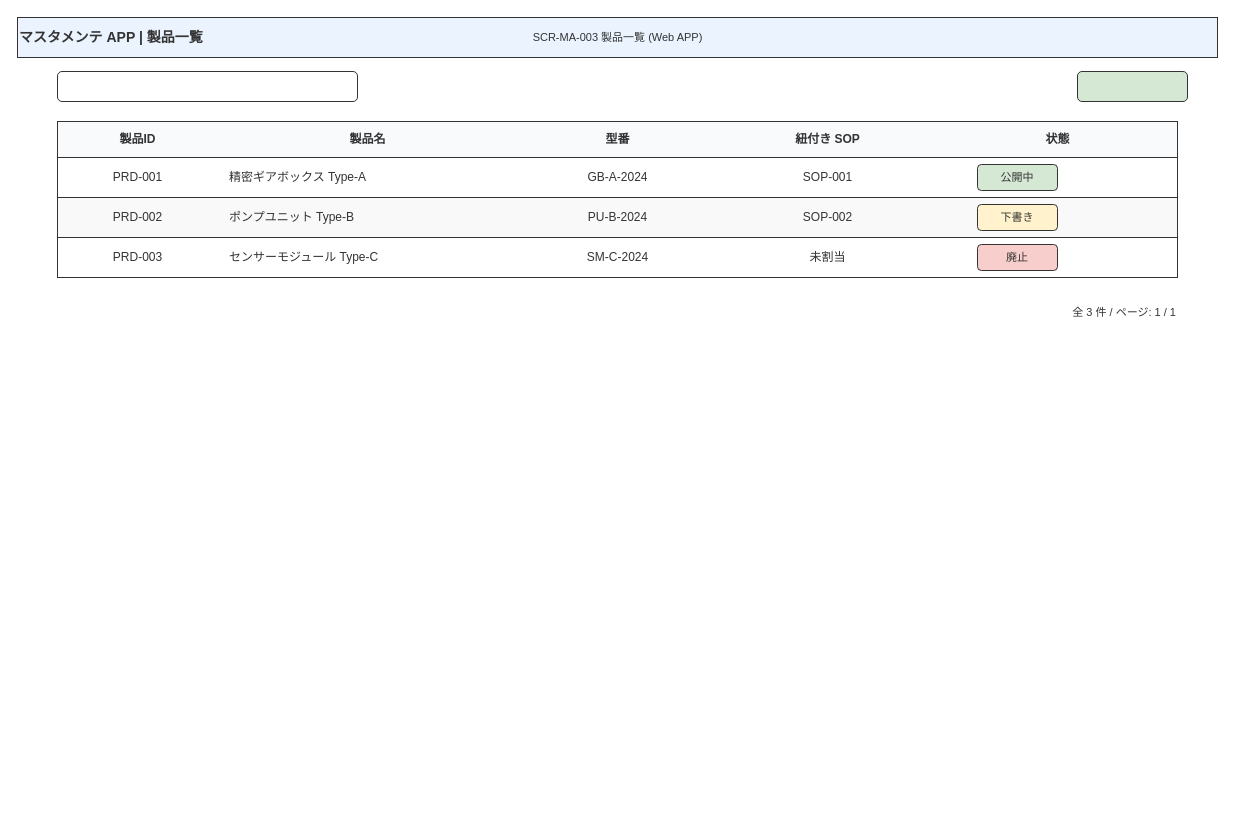
The diagram is 1235 pixels wide and 835 high, and some of its shapes have lost their labels. Here are the shapes that lost their labels. From the top down, the centre of each, then its label:
At point (207, 86): "製品名 / 型番で検索...".
At point (1132, 86): "新規作成".
